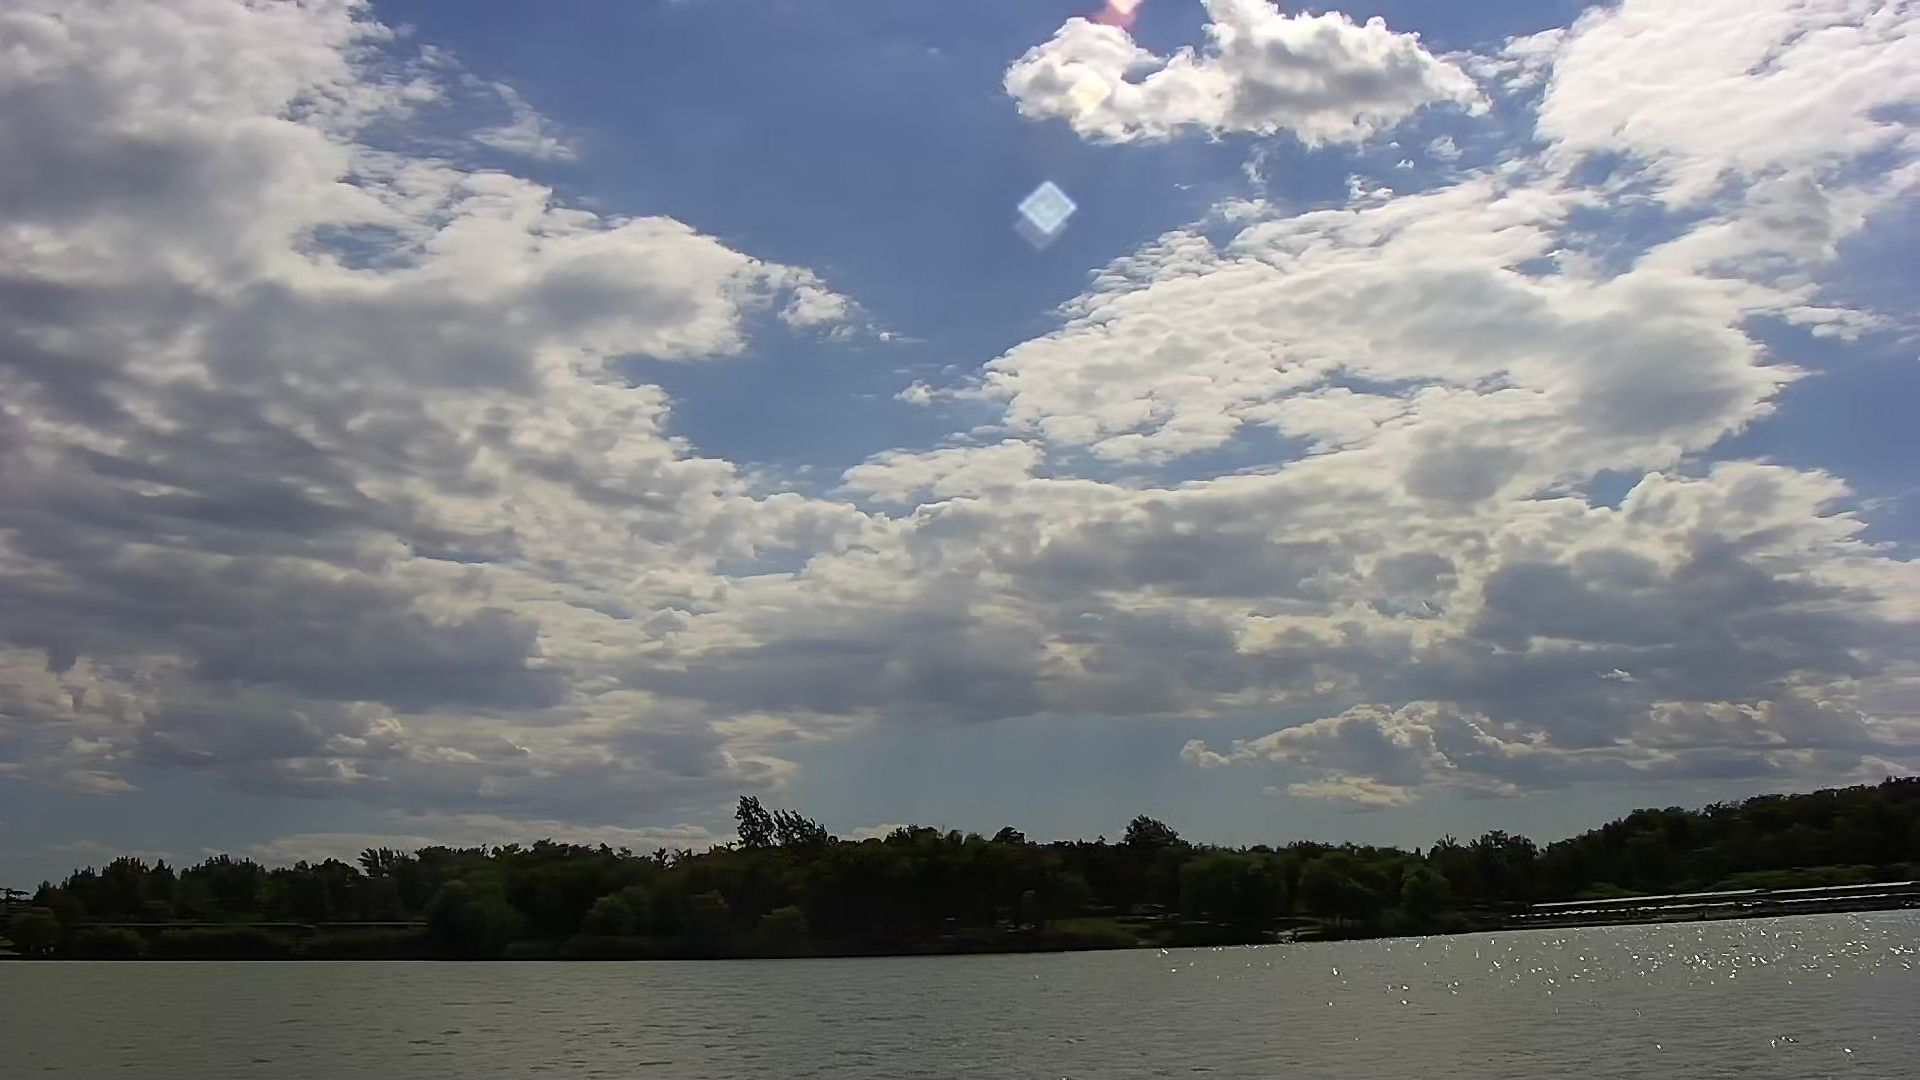harbor: (1501, 876, 1920, 936)
